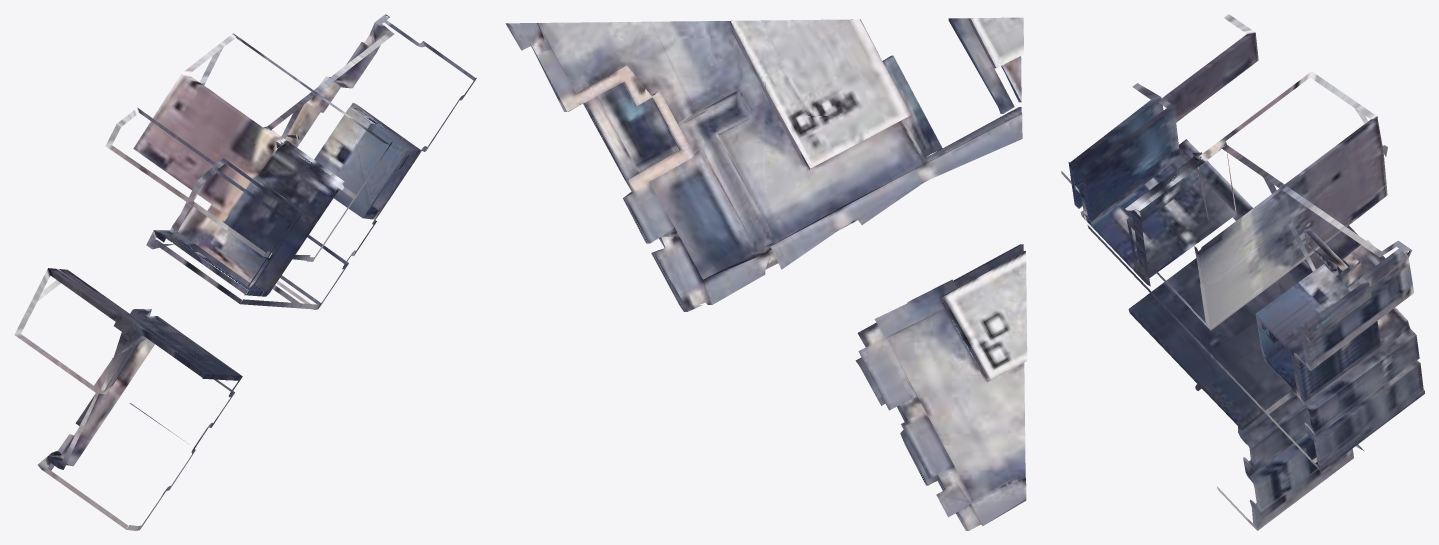
3 views of the same model, side by side, from view 1: azimuth 30°, elevation 25°; view 2: azimuth 150°, elevation 25°; view 3: azimuth 270°, elevation 25° (orthographic). The views are drawn at different scales.
Size of the model in its own units: 41.85 by 37.94 by 25.33.
Materials: 2 (2 with a texture image).
